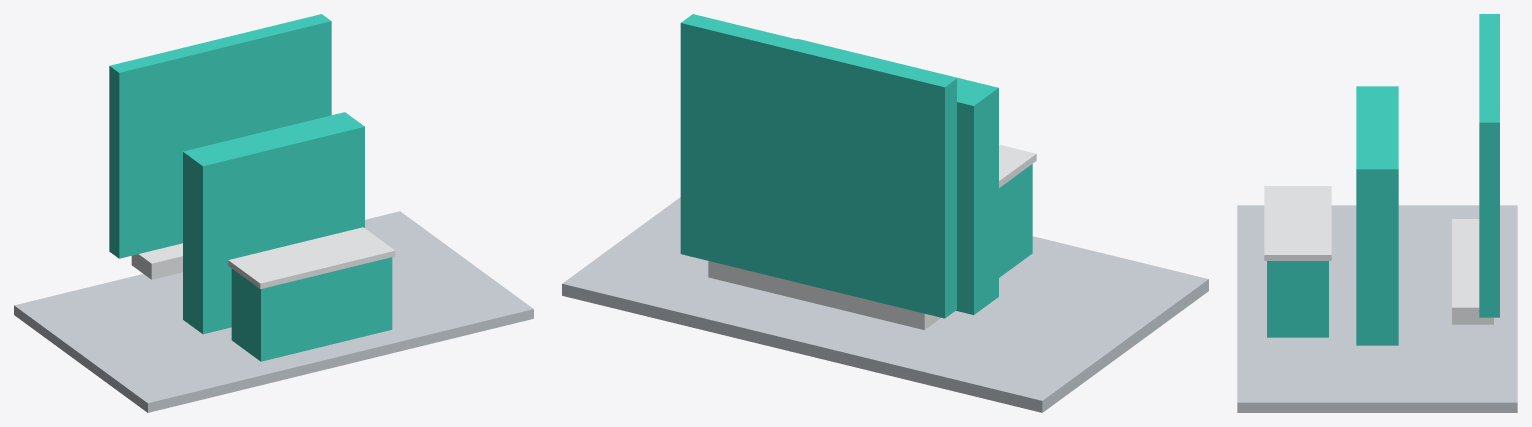
3 views of the same model, side by side, from view 1: azimuth 30°, elevation 25°; view 2: azimuth 150°, elevation 25°; view 3: azimuth 270°, elevation 25° (orthographic). The views are drawn at different scales.
Parts seen in each view (by area): view 1: Exhibition Booth Concept; view 2: Exhibition Booth Concept; view 3: Exhibition Booth Concept.
Boxes of the visible parts, x1,y1,x2,y2 form: Exhibition Booth Concept: [14, 14, 533, 412]; Exhibition Booth Concept: [562, 14, 1208, 412]; Exhibition Booth Concept: [1237, 14, 1517, 412].
Bounding box in the file's own units: 5 × 2.9 × 3.
